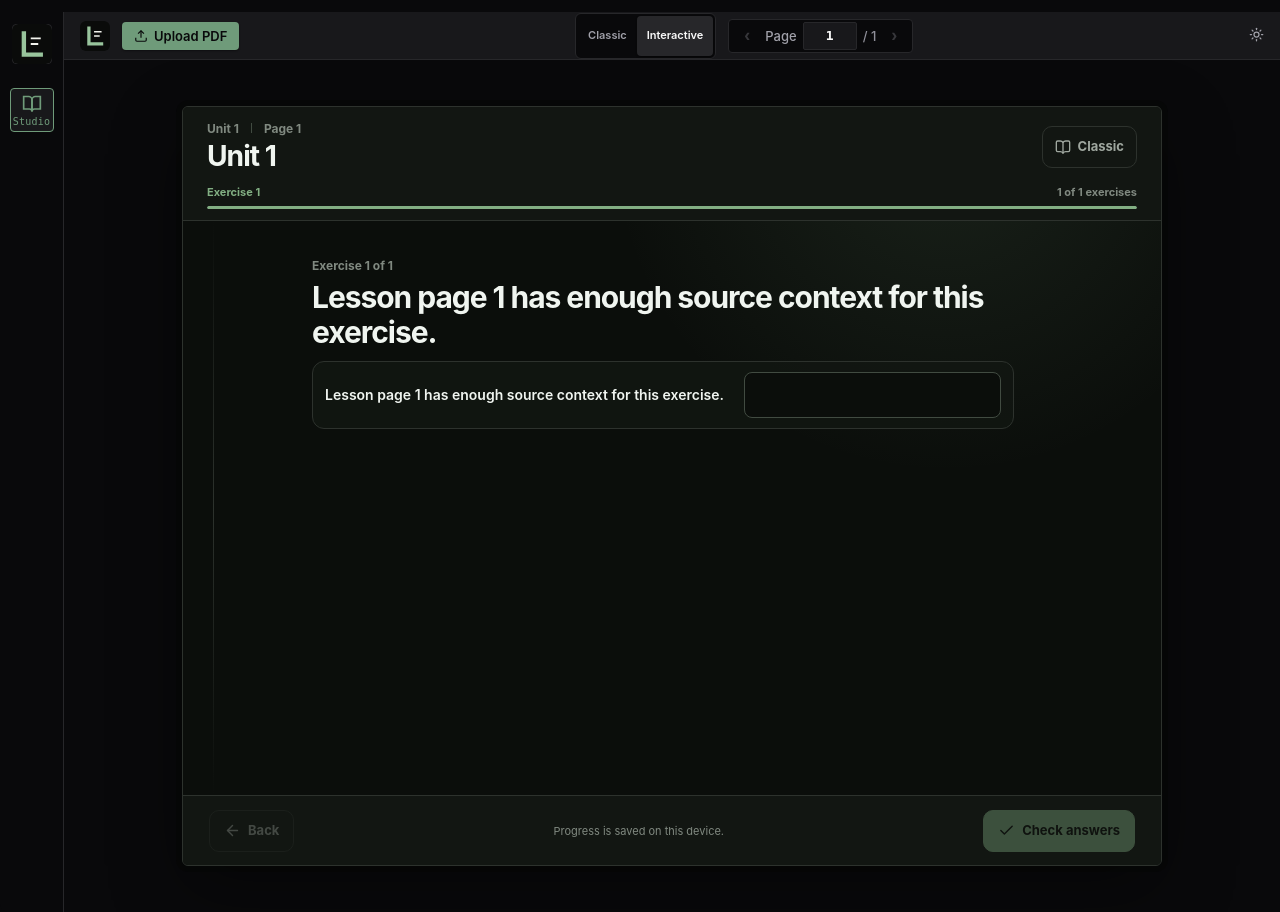
Scenario: request recovery and correction isolation › preserves an AMBIGUOUS backend slot through the App correction flow
In the field named "answer for": (873, 395) [744, 372, 1001, 418], type "answer"
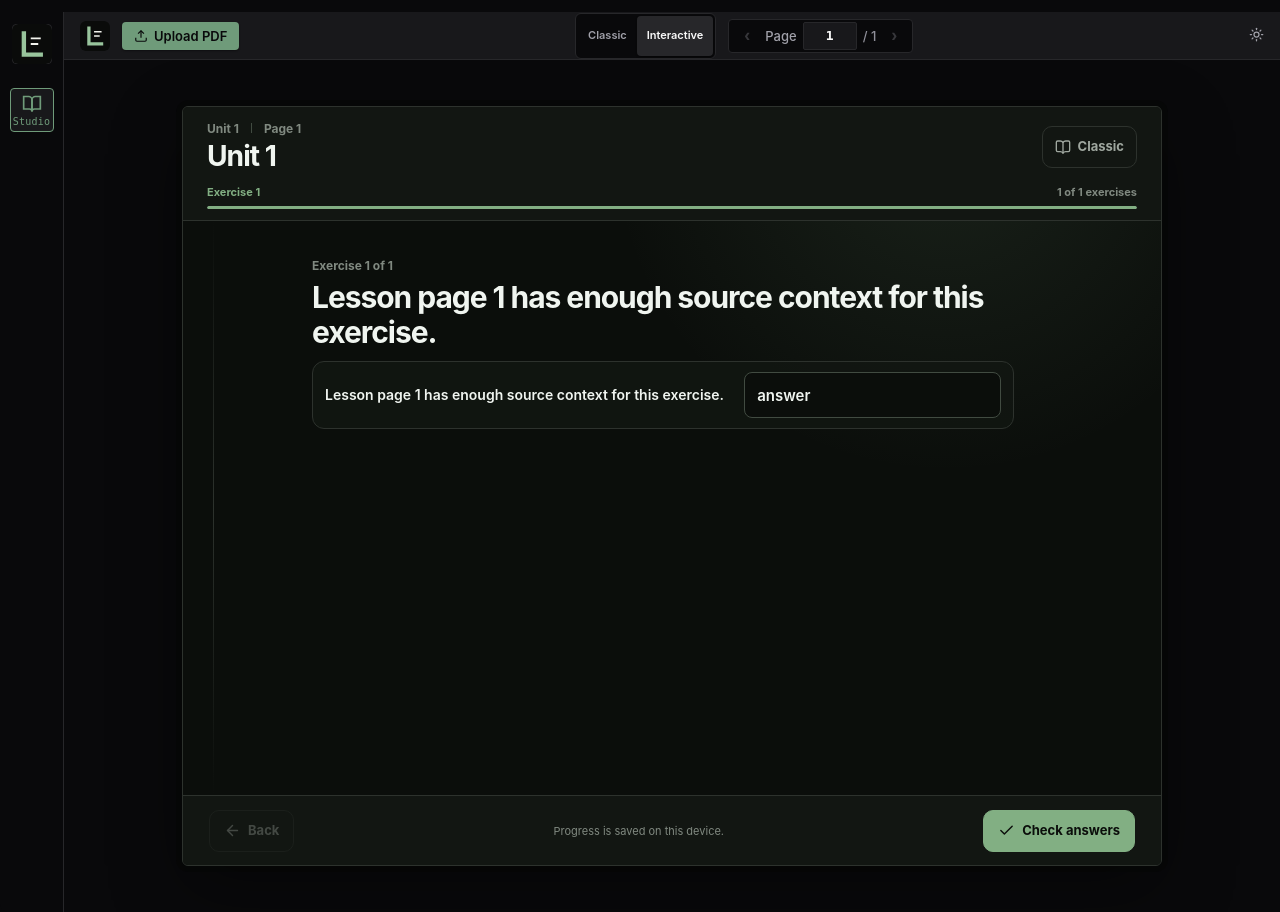
Click the button "Check answers": (1059, 830) [983, 810, 1135, 852]
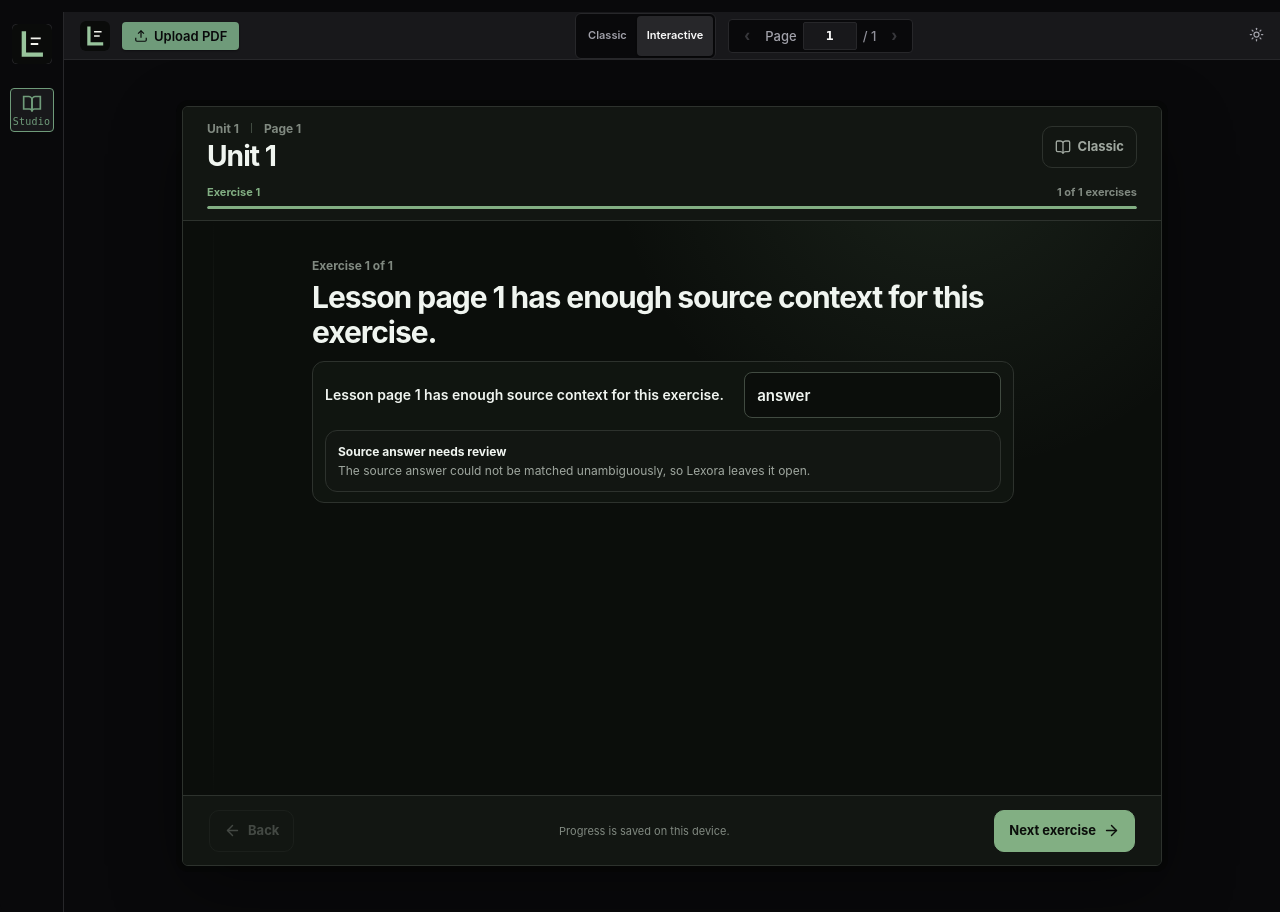
Check: the text "Source answer needs review" is shown, box [338, 444, 506, 459]
